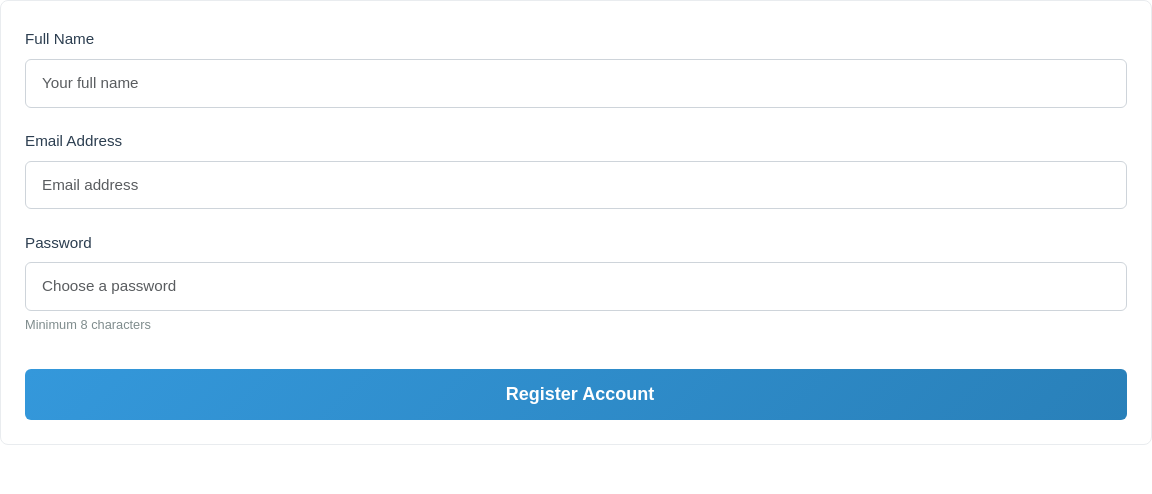
Test case: UserRegistration › shows validation error when password is less than 8 characters
In the field labelled "Full Name": point(576, 83) [25, 59, 1127, 108], type "John Doe"
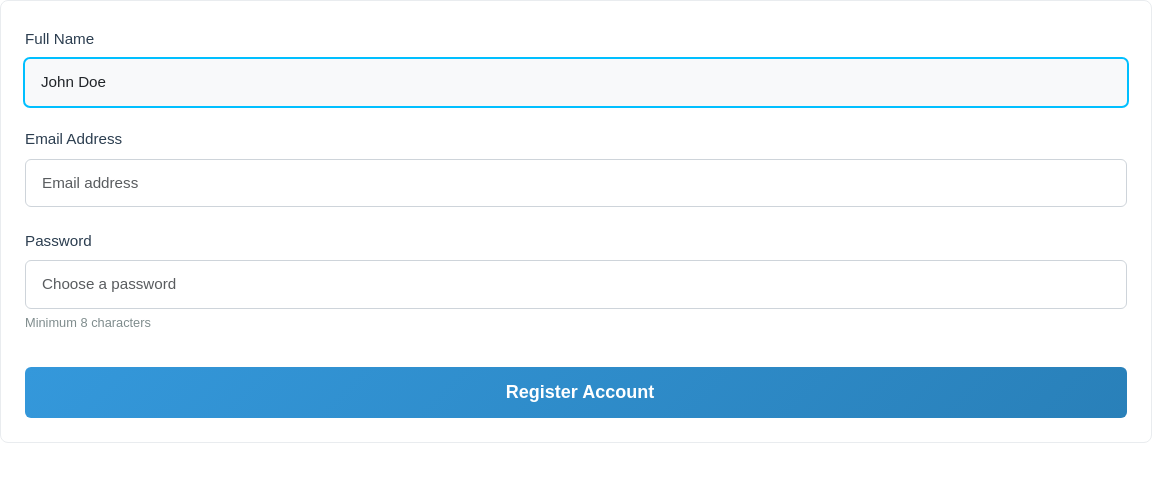
In the field labelled "Email Address": point(576, 183) [25, 159, 1127, 207], type "john@example.com"
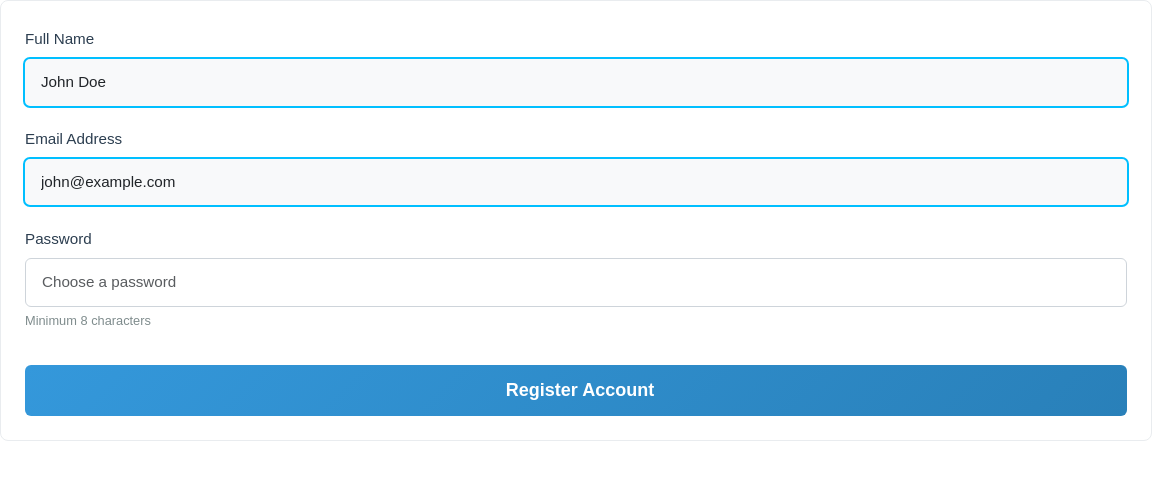
In the password field labelled "Password": point(576, 283) [25, 258, 1127, 307], type "short"
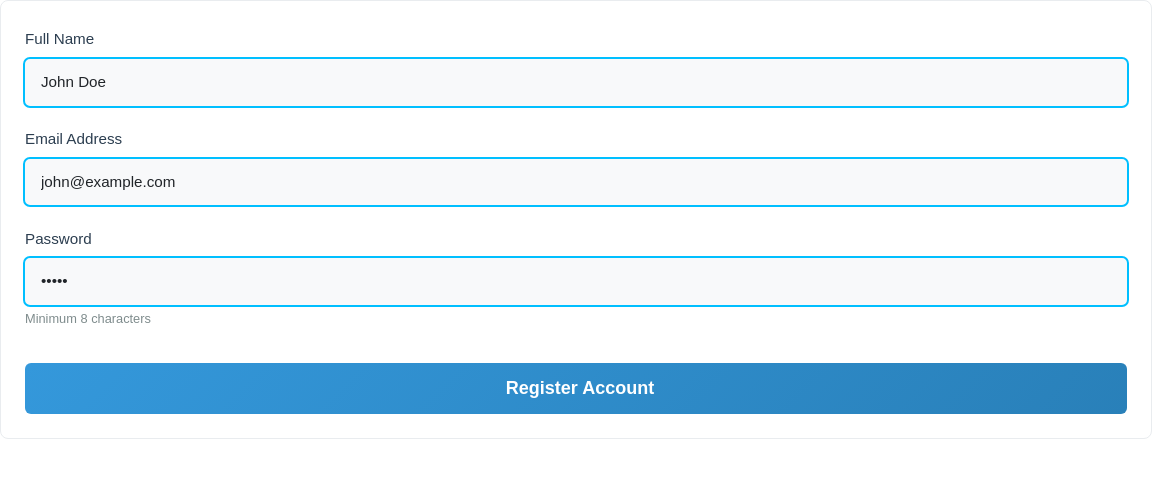
Click the button "Register Account": point(576, 389) [25, 364, 1127, 414]
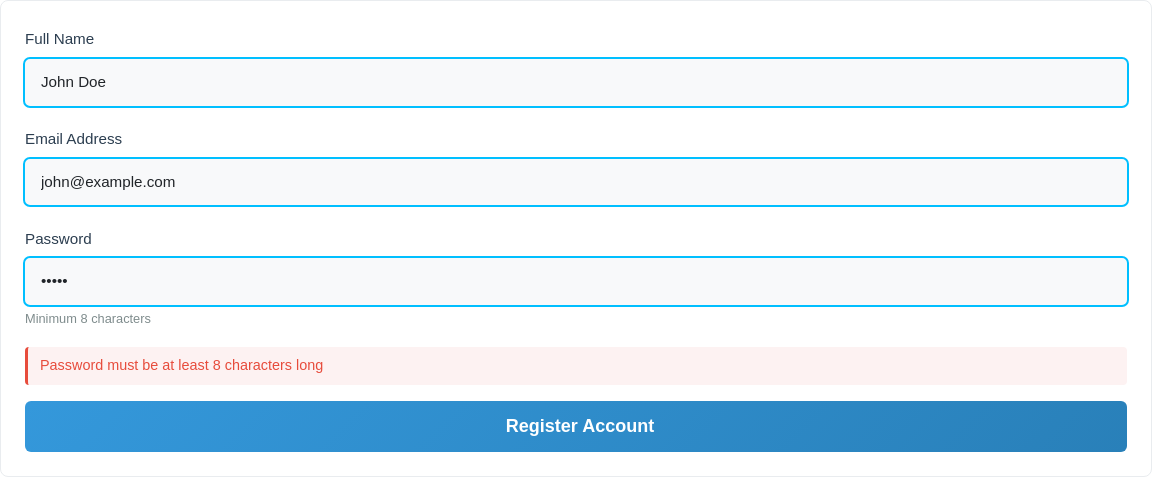
Result: the text "Password must be at least 8 characters long" is shown at [25, 348, 1127, 385]
